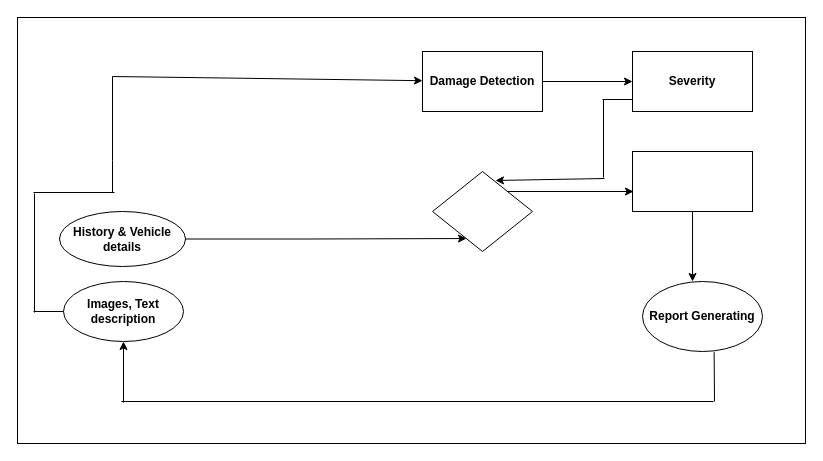
Some shapes in this 823 by 461 pixel diagram are drawn without their labels. Each missing label, with the centre of its shape:
Cost Estimation: the point at 692,181
Repairing or Replacement: the point at 482,211
